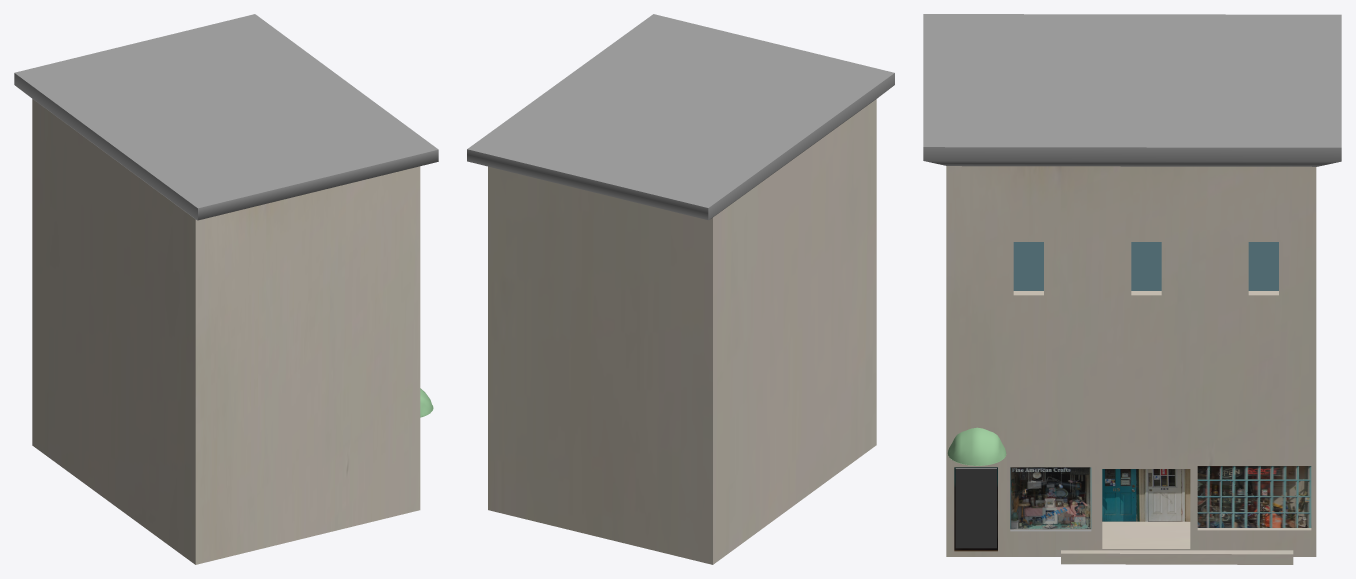
File: MatrixGallery.fbx
3 renders of one model, left to right at view 1: azimuth 30°, elevation 25°; view 2: azimuth 150°, elevation 25°; view 3: azimuth 270°, elevation 25°, orthographic. The views are drawn at different scales.
Visible parts, largest first — view 1: pCube37, pCube16; view 2: pCube37, pCube16; view 3: pCube37, pCube16, pCube4, nurbsToPoly2.
Boxes of the visible parts, <box> form: pCube37: <box>32,99,420,564</box>; pCube16: <box>14,14,438,220</box>; pCube37: <box>488,99,876,564</box>; pCube16: <box>467,14,894,220</box>; pCube37: <box>946,166,1316,556</box>; pCube16: <box>923,14,1341,166</box>; pCube4: <box>1061,550,1293,564</box>; nurbsToPoly2: <box>947,427,1006,465</box>.
Bounding box in the file's own units: 11.4 × 15.72 × 14.25.
Materials: 9 (4 with a texture image).
